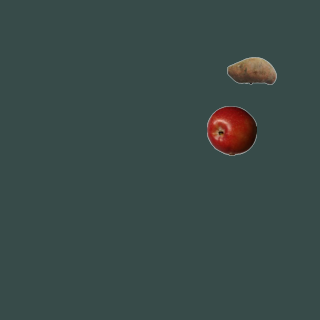Apple Braeburn: (206, 105, 256, 155)
Potato Sweet: (226, 45, 276, 95)
